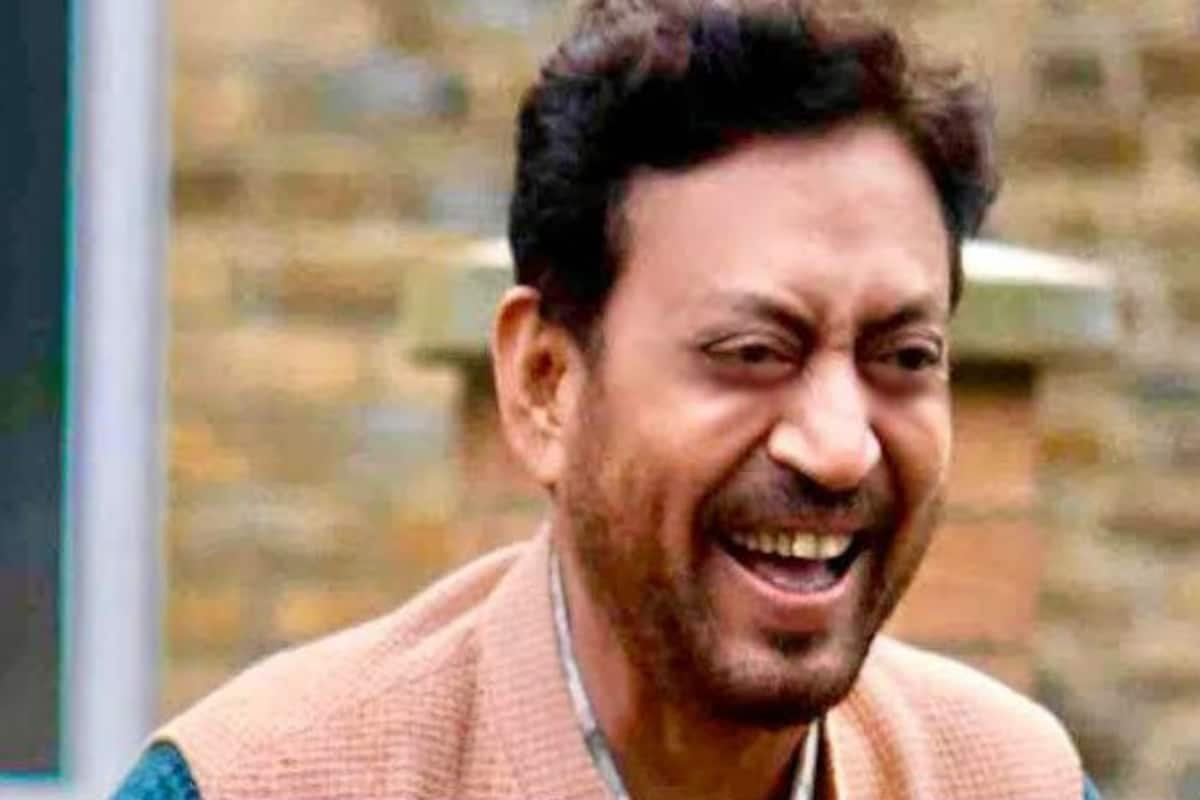noMask: (470, 17, 1041, 735)
